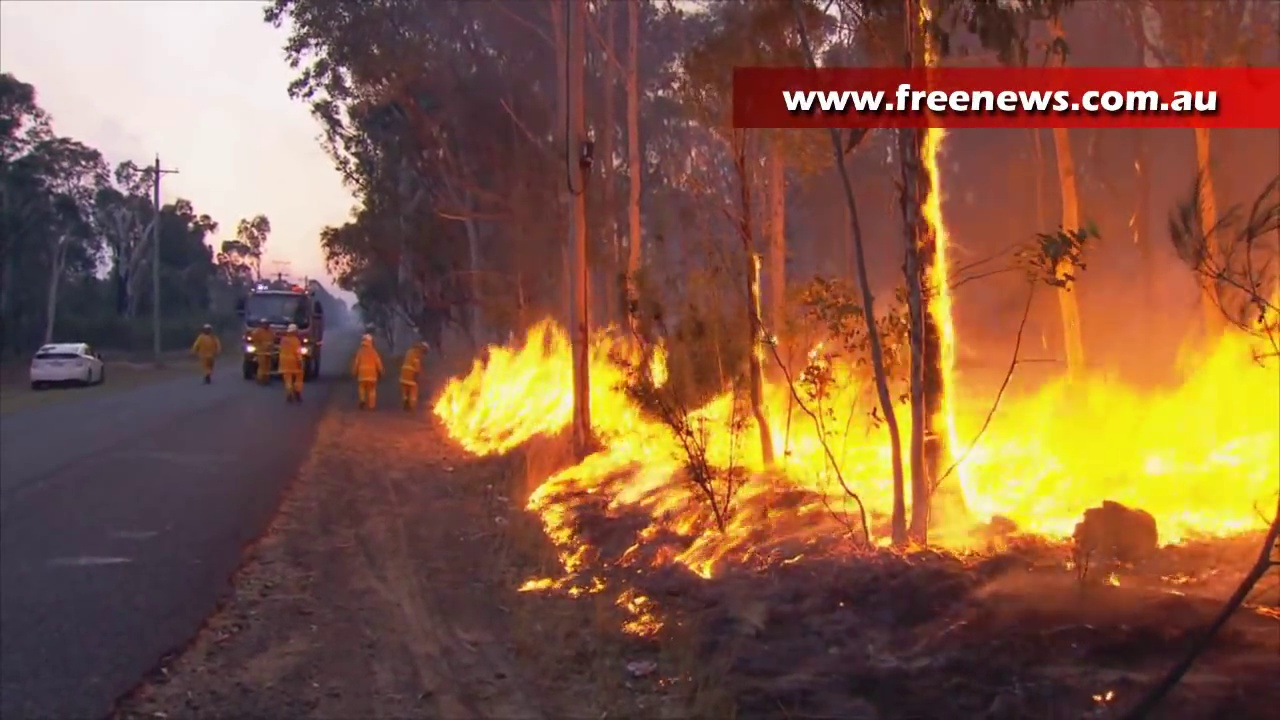fire: (439, 316, 911, 591), (937, 331, 1280, 551), (919, 128, 958, 374)
